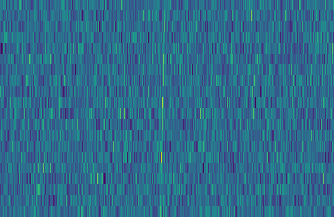signal: (155, 0, 168, 217)
